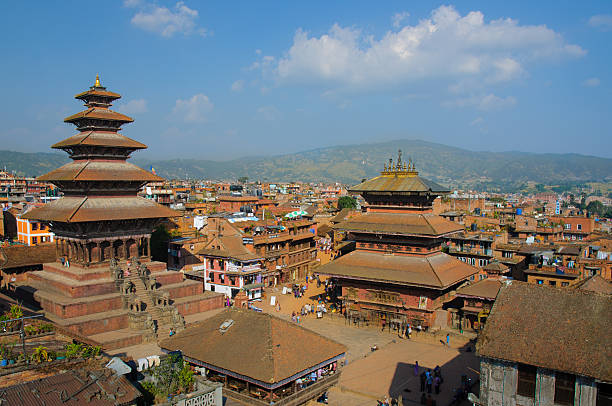nyathapola: (20, 83, 206, 313)
